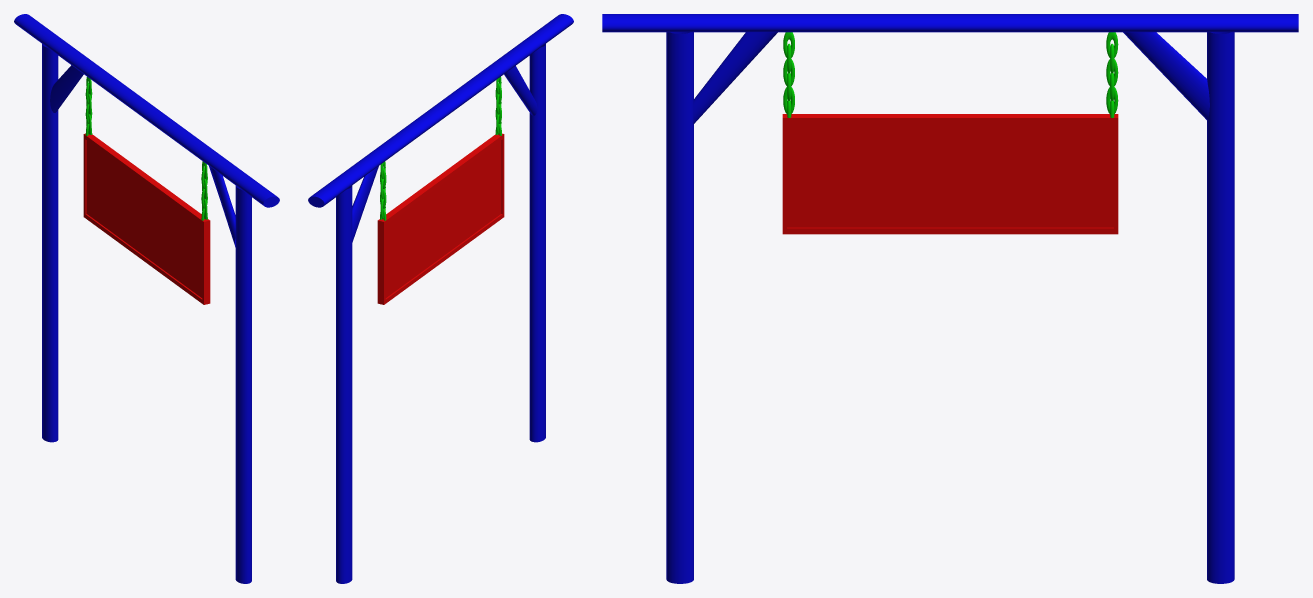
File: sign gate.fbx
3 renders of one model, left to right at view 1: azimuth 30°, elevation 25°; view 2: azimuth 150°, elevation 25°; view 3: azimuth 270°, elevation 25°, orthographic. The views are drawn at different scales.
Parts seen in each view (by area): view 1: sign_gate; view 2: sign_gate; view 3: sign_gate.
Part boxes in pixels (left/top/right/bottom): sign_gate: left=14, top=14, right=279, bottom=583; sign_gate: left=308, top=14, right=573, bottom=583; sign_gate: left=602, top=14, right=1298, bottom=583.
Size of the model in its own units: 45.32 by 1055 by 1181.
